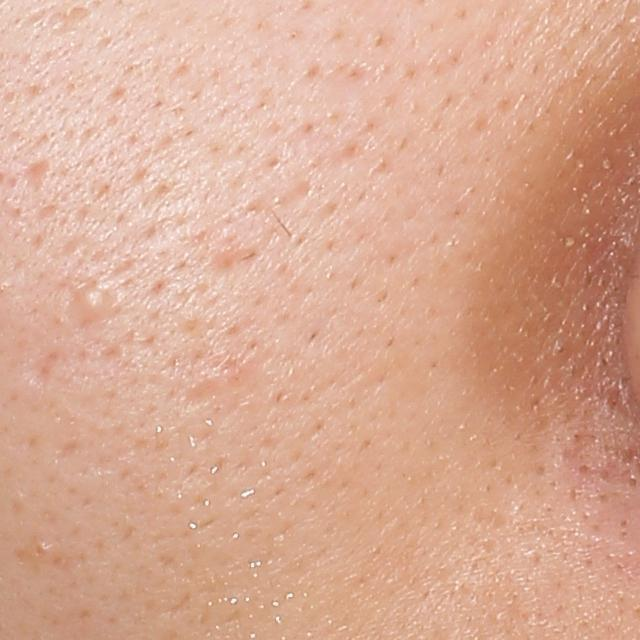atrophic_scar: (175, 372, 241, 417), (204, 248, 265, 279), (42, 2, 97, 35), (22, 156, 55, 196), (29, 351, 61, 389)
comedo: (74, 282, 111, 330)
